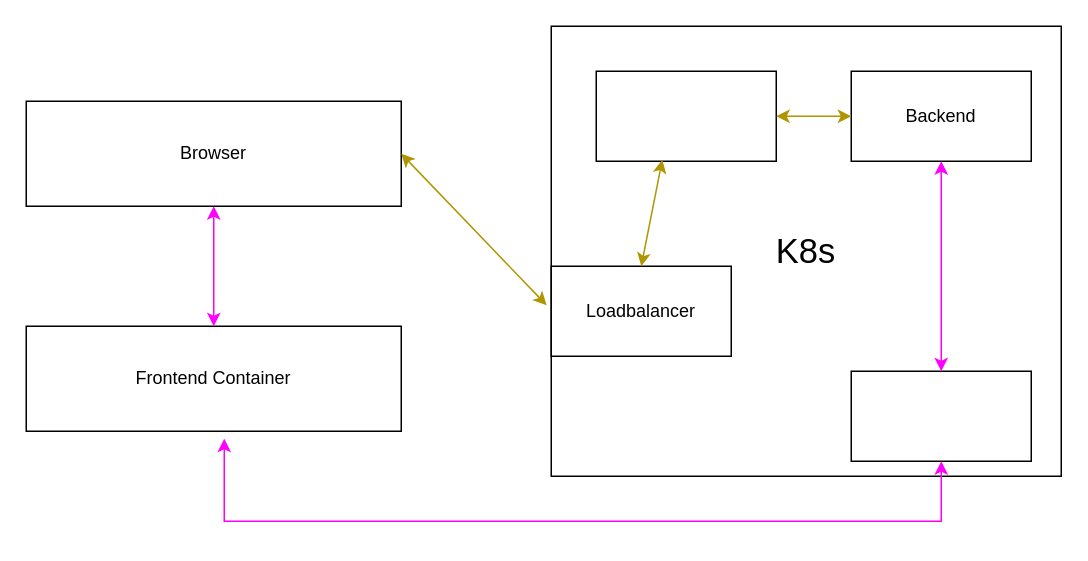
Some shapes in this 1088 by 561 pixel diagram are drawn without their labels. Each missing label, with the centre of its shape:
Frontend: the point at 685,115
Stowaway: the point at 940,415
